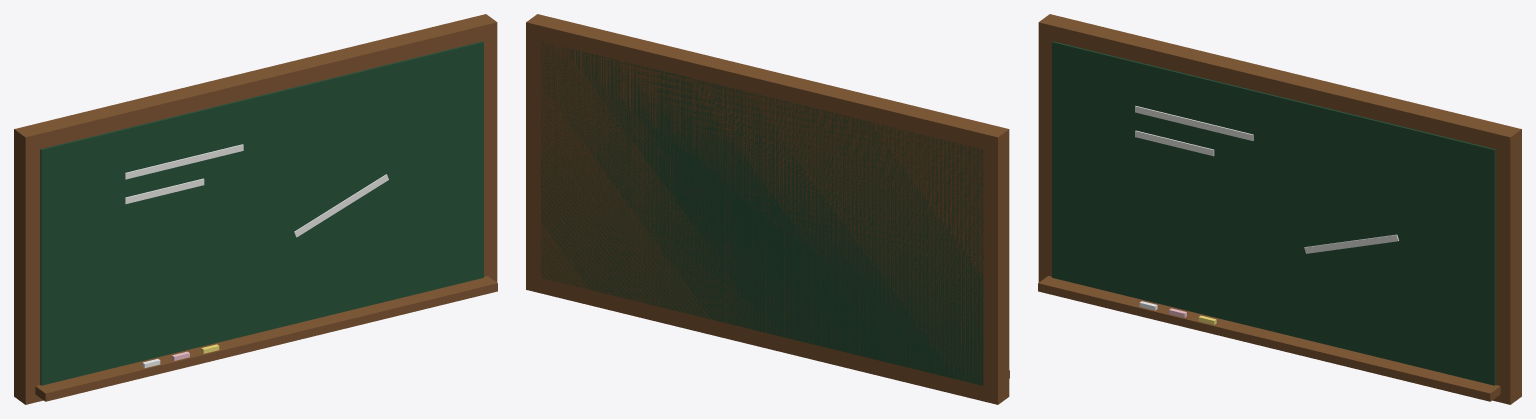
Rendered from p_blackboard.glb.
3 renders of one model, left to right at view 1: azimuth 30°, elevation 25°; view 2: azimuth 150°, elevation 25°; view 3: azimuth 330°, elevation 25°, orthographic.
Parts seen in each view (by area): view 1: blackboard; view 2: blackboard; view 3: blackboard.
Boxes of the visible parts, <box> form: blackboard: <box>14,14,497,404</box>; blackboard: <box>526,14,1009,404</box>; blackboard: <box>1038,14,1521,404</box>.
Size of the model in its own units: 2.4 by 1.3 by 0.19.
